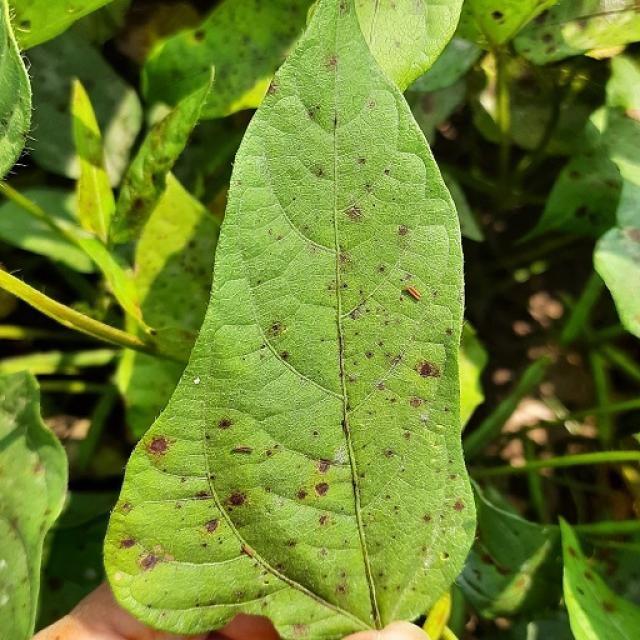Anthracnose: (293, 467, 344, 509), (146, 434, 177, 464), (137, 548, 172, 571), (416, 360, 440, 378), (128, 196, 147, 218), (7, 516, 23, 542), (420, 92, 436, 113), (226, 492, 246, 507), (332, 446, 348, 464), (624, 226, 640, 243), (344, 205, 362, 220), (46, 576, 62, 592), (204, 518, 219, 533), (292, 623, 308, 637), (480, 553, 497, 566), (324, 54, 338, 69), (347, 306, 362, 320), (242, 544, 256, 558), (338, 251, 351, 266), (119, 537, 135, 549), (268, 322, 282, 335), (318, 460, 331, 474), (231, 446, 253, 454), (575, 205, 588, 218), (409, 396, 423, 408), (32, 460, 44, 474), (217, 418, 232, 429), (339, 2, 350, 17), (120, 502, 133, 514), (152, 544, 165, 556), (195, 490, 210, 500), (453, 500, 465, 512), (397, 224, 409, 236), (391, 354, 403, 366), (194, 30, 206, 42), (602, 602, 615, 613), (541, 32, 554, 43), (266, 82, 276, 96), (18, 20, 31, 30), (336, 584, 347, 595), (567, 546, 577, 558), (568, 170, 580, 180), (491, 11, 504, 20), (296, 490, 307, 500), (341, 418, 348, 433), (376, 381, 386, 391), (113, 572, 123, 582), (234, 590, 245, 599), (422, 514, 432, 523), (367, 100, 376, 110), (315, 167, 324, 177), (307, 108, 315, 119), (441, 551, 450, 560), (385, 449, 394, 457), (280, 351, 289, 359), (445, 327, 453, 336), (358, 157, 367, 165), (365, 351, 374, 359), (149, 329, 158, 337), (576, 587, 584, 596), (435, 422, 445, 429), (67, 7, 77, 14), (333, 116, 338, 128), (263, 578, 270, 586), (378, 266, 385, 273), (383, 169, 390, 176), (313, 430, 319, 437)
Blackgram: (105, 0, 475, 639)
